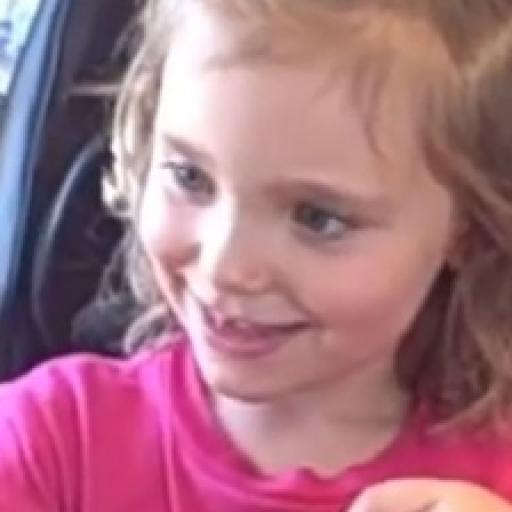Autism: (90, 21, 512, 466)
